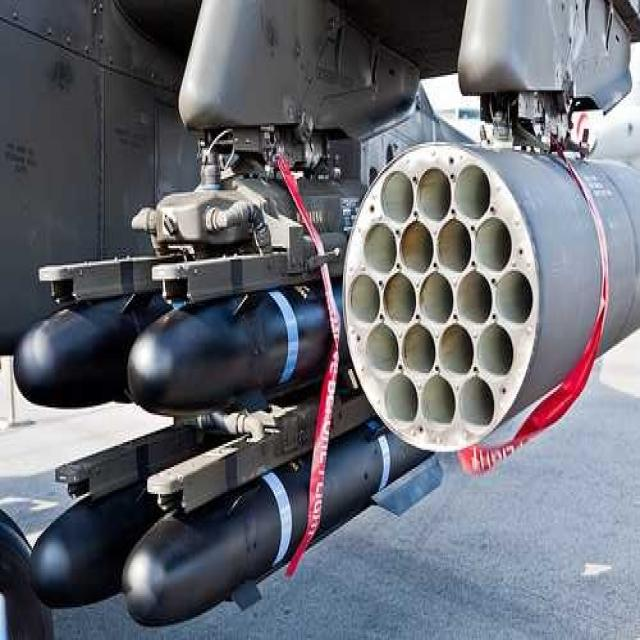missile: (122, 407, 497, 620), (127, 287, 358, 405)
